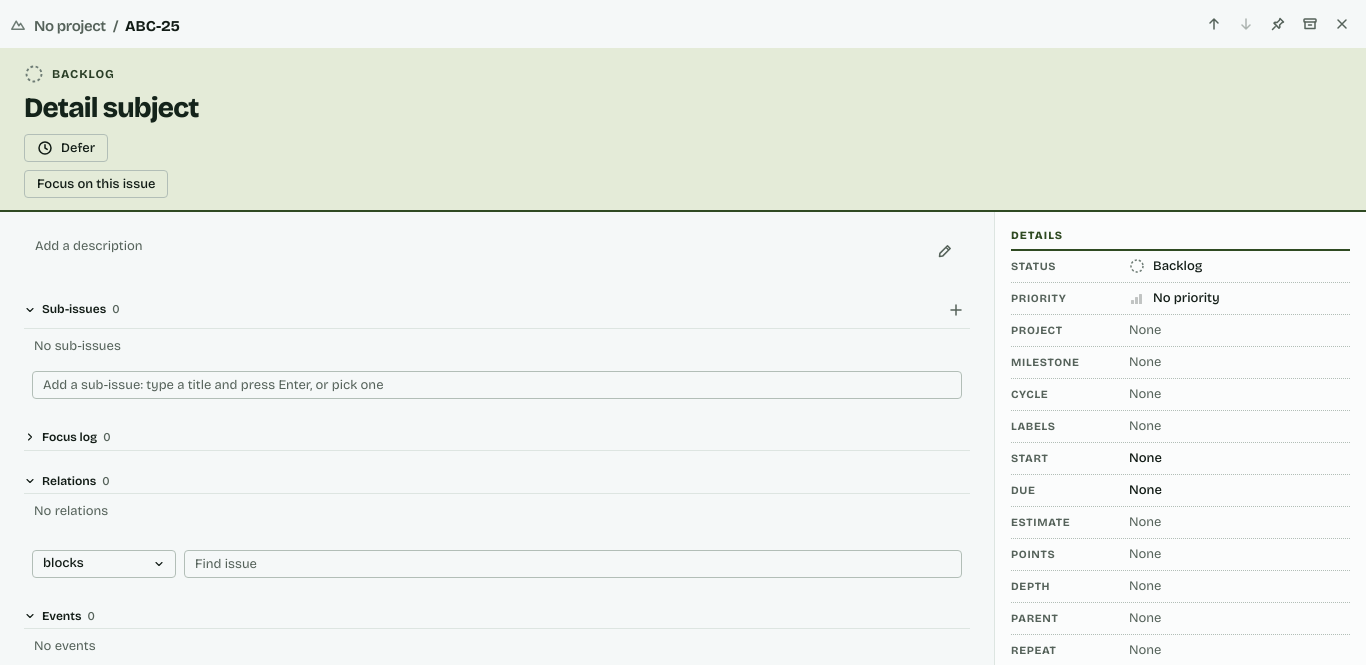
it: IssueDetail › edits_title_inline
Click the button "Detail subject" at {"x": 111, "y": 108}, box [24,92,1342,126]
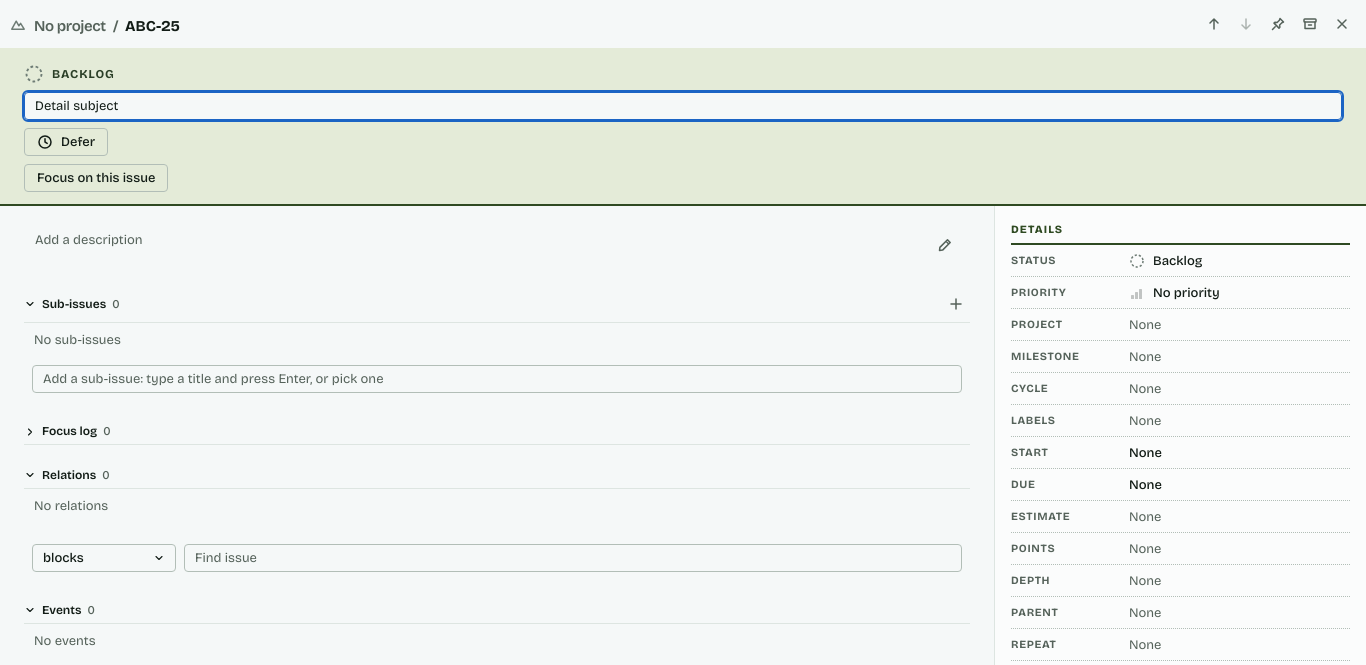
Replace the text in the field named "Title" with "Renamed" at {"x": 683, "y": 106}, box [24,92,1342,120]
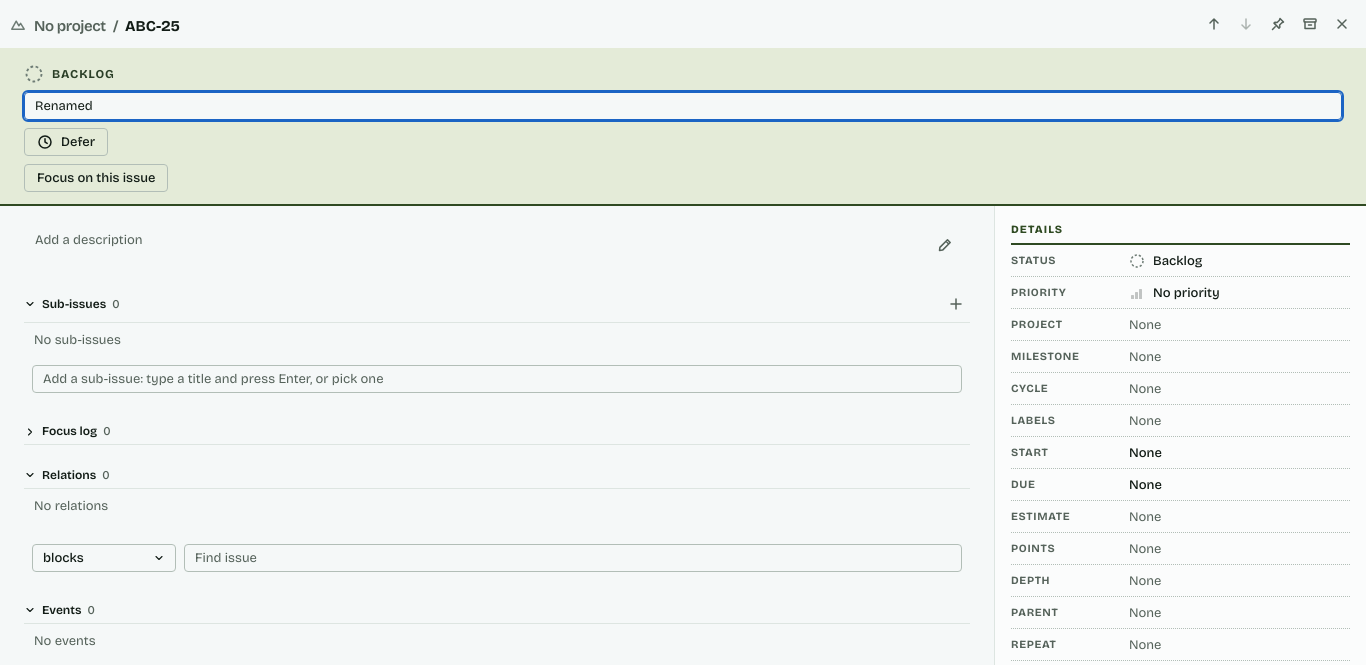
Submit the 1st form, box [24,92,1342,120]
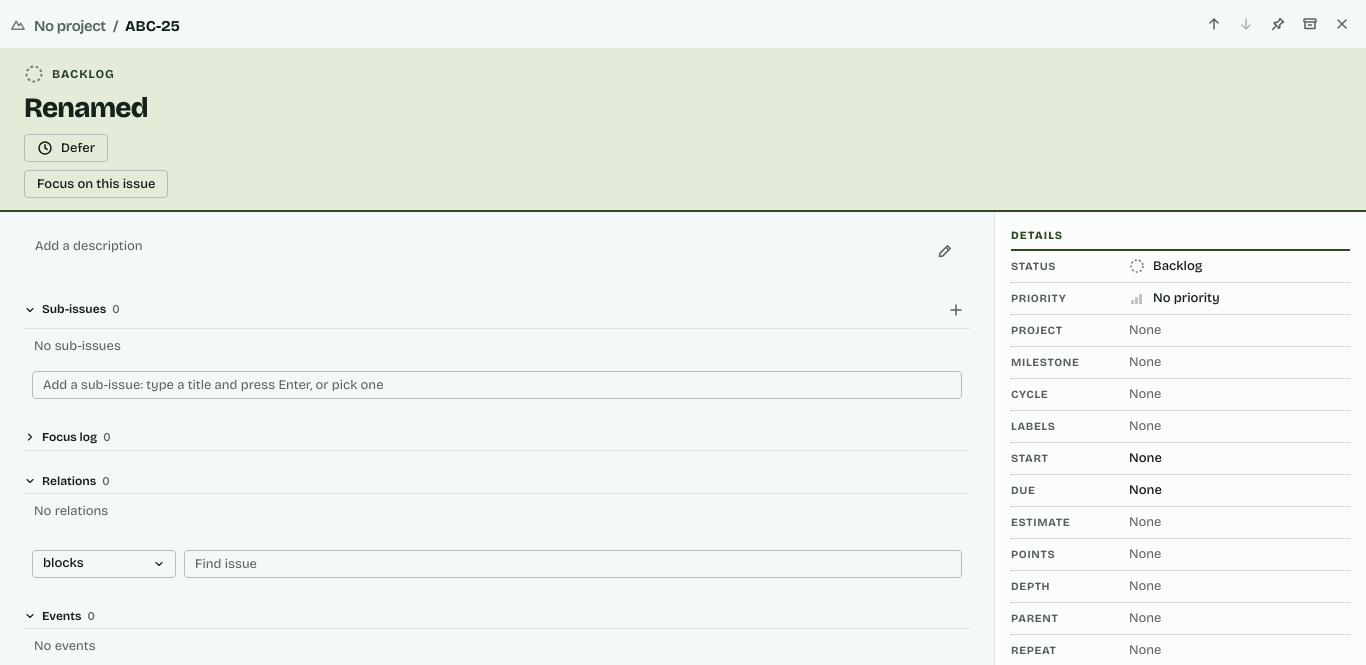
Check: the button "Renamed" is shown, box [24,92,1342,126]
Check: the heading "Renamed" is shown, box [24,92,1342,126]
